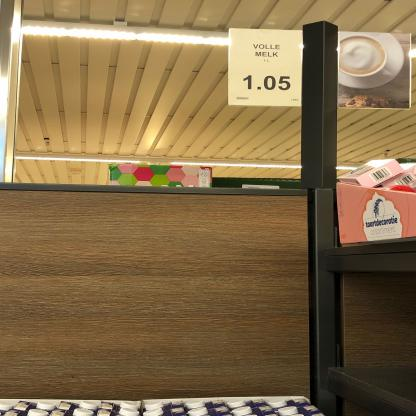prtg: (229, 29, 304, 106)
